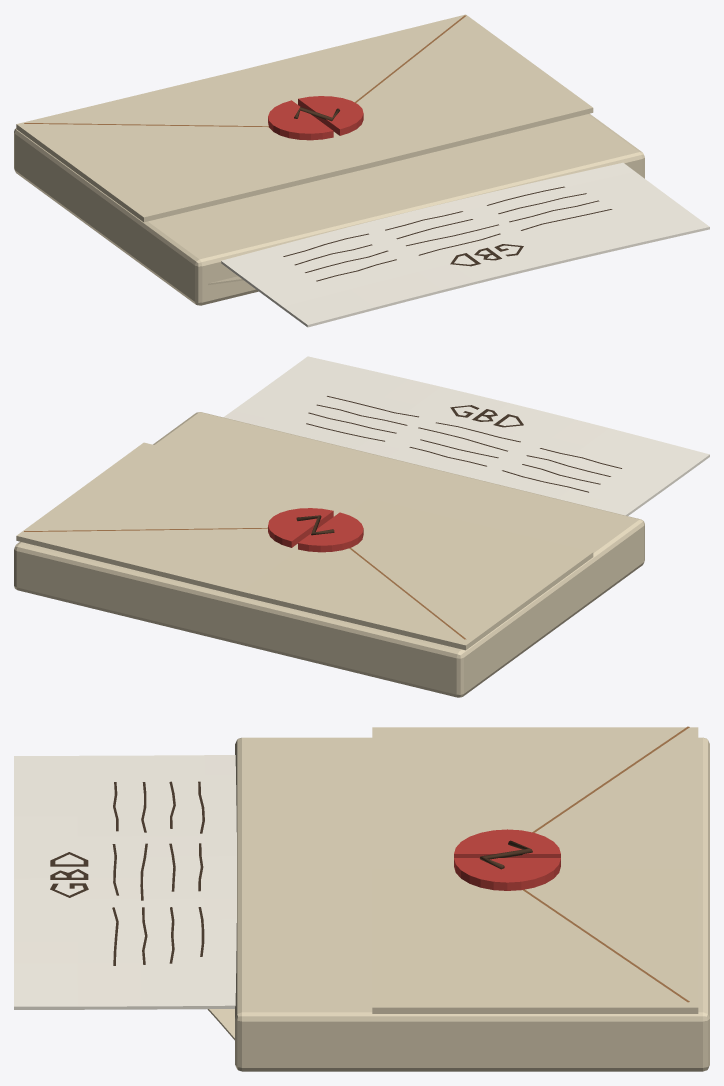
The model's file is Exhibit_6_contract.fbx.
3 views of the same model, one above another, from view 1: azimuth 30°, elevation 25°; view 2: azimuth 150°, elevation 25°; view 3: azimuth 270°, elevation 25° (orthographic). The views are drawn at different scales.
Visible parts, largest first — view 1: Exhibit_6_contract; view 2: Exhibit_6_contract; view 3: Exhibit_6_contract.
Part boxes in pixels (x1,y1,x2,y2): Exhibit_6_contract: (14,14,709,327); Exhibit_6_contract: (14,356,709,697); Exhibit_6_contract: (14,726,709,1071).
Size of the model in its own units: 0.285 by 0.299 by 0.0385.
